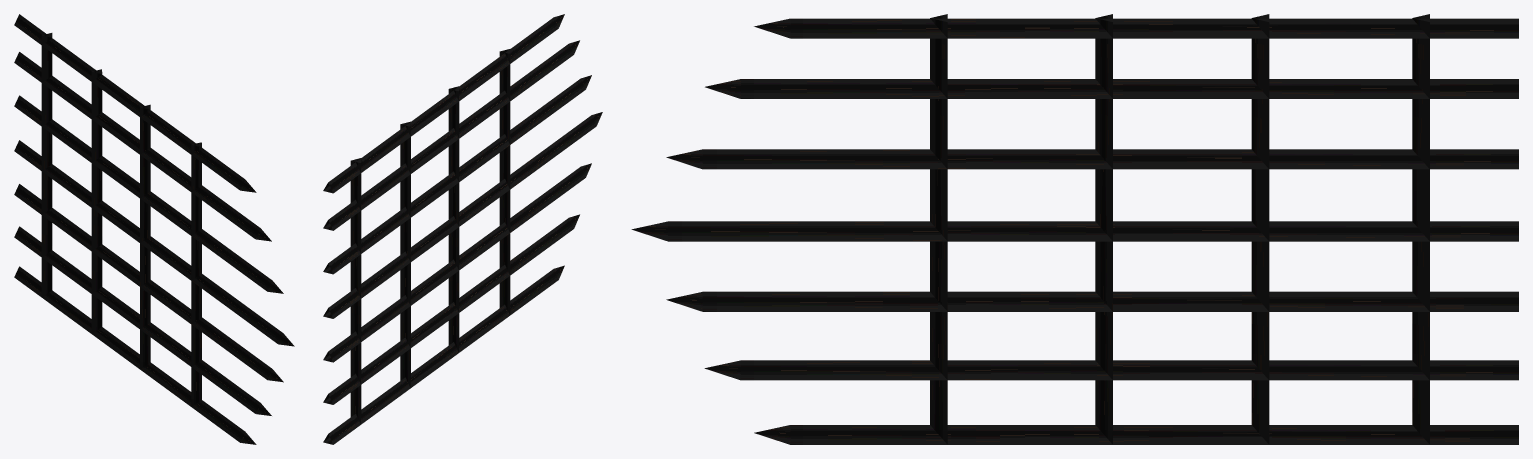
The model's file is mistgate.obj.
3 renders of one model, left to right at view 1: azimuth 30°, elevation 25°; view 2: azimuth 150°, elevation 25°; view 3: azimuth 270°, elevation 25°, orthographic. The views are drawn at different scales.
Bounding box in the file's own units: 0.4219 × 10.14 × 19.29.
Materials: 1 (1 with a texture image).
